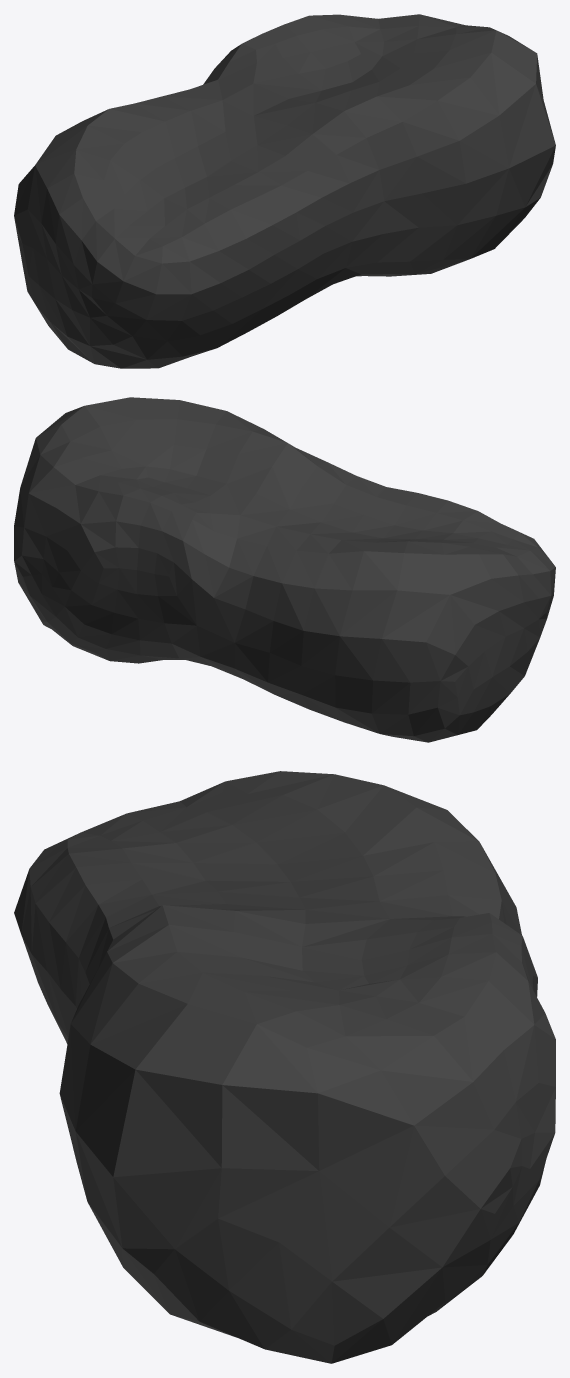
File: LFL_humerus5.glb
3 renders of one model, top to bottom at view 1: azimuth 30°, elevation 25°; view 2: azimuth 150°, elevation 25°; view 3: azimuth 270°, elevation 25°, orthographic. The views are drawn at different scales.
Parts seen in each view (by area): view 1: LFL_humerus5; view 2: LFL_humerus5; view 3: LFL_humerus5.
Part boxes in pixels (x1=…): LFL_humerus5: x1=14, y1=14, x2=555, y2=368; LFL_humerus5: x1=14, y1=397, x2=555, y2=742; LFL_humerus5: x1=14, y1=771, x2=555, y2=1363.
Bounding box in the file's own units: 17.18 × 8.1 × 10.23.
1 material, 1 textured.
